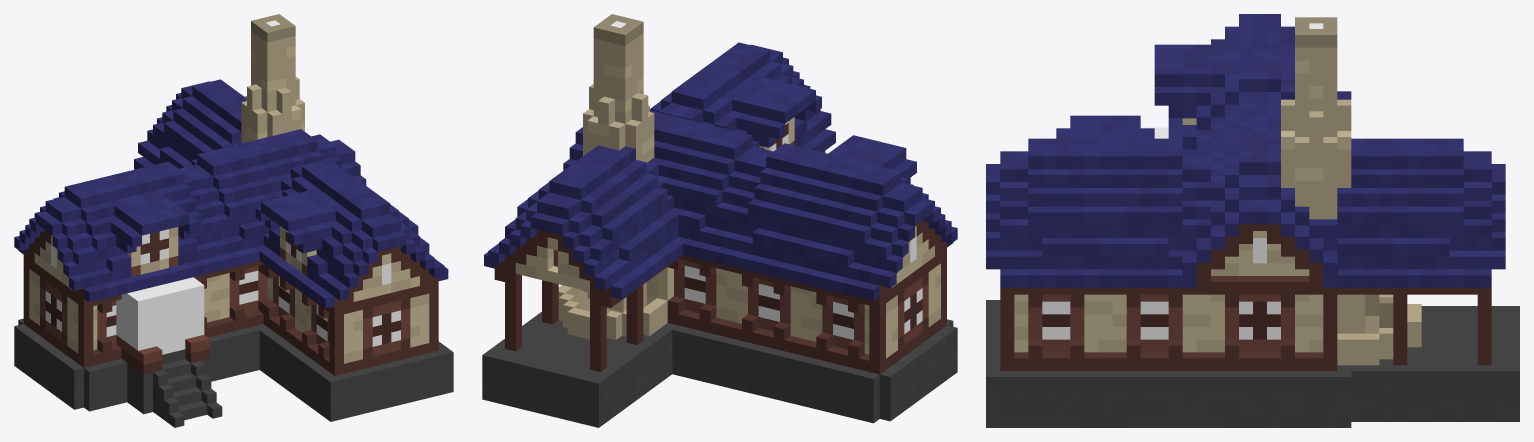
File: blacksmith.obj
3 views of the same model, side by side, from view 1: azimuth 30°, elevation 25°; view 2: azimuth 150°, elevation 25°; view 3: azimuth 270°, elevation 25° (orthographic). The views are drawn at different scales.
Size of the model in its own units: 3.2 by 2.9 by 3.8.
1 material, 1 textured.
